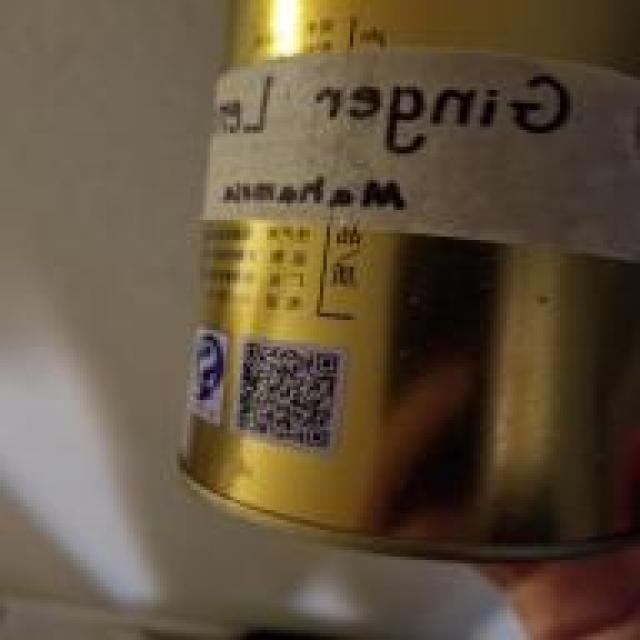qr_code: (237, 341, 337, 448)
